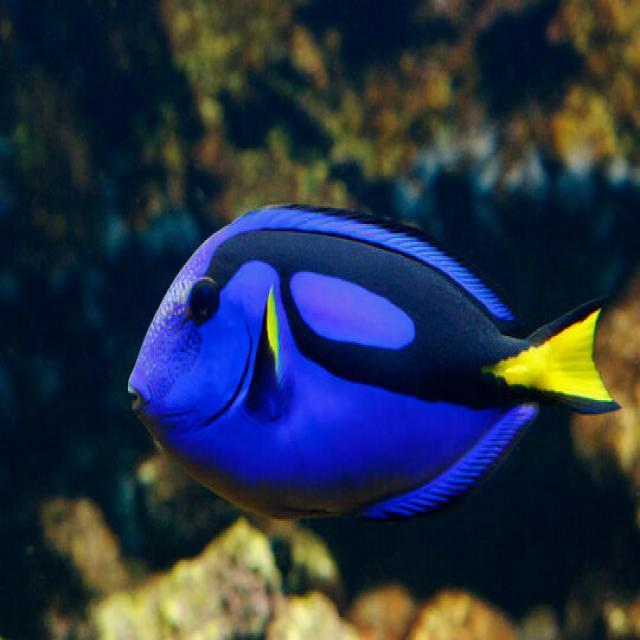TangFish: (124, 198, 624, 532)
